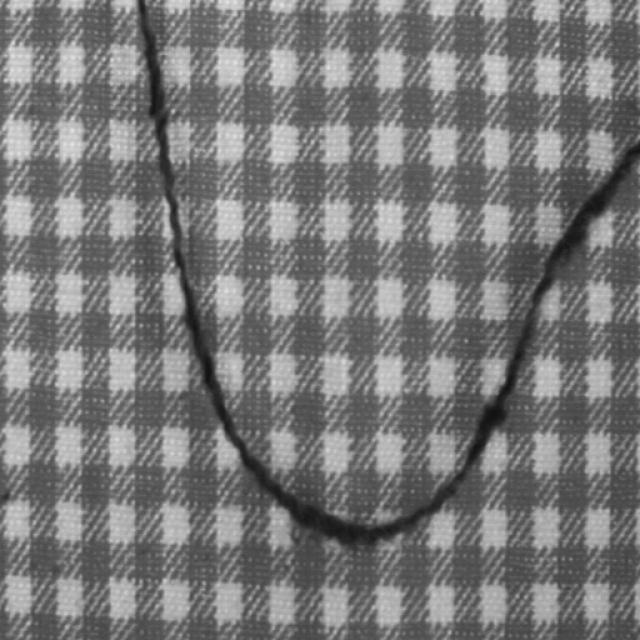Foreign-Body-Defect: (136, 0, 639, 545)
